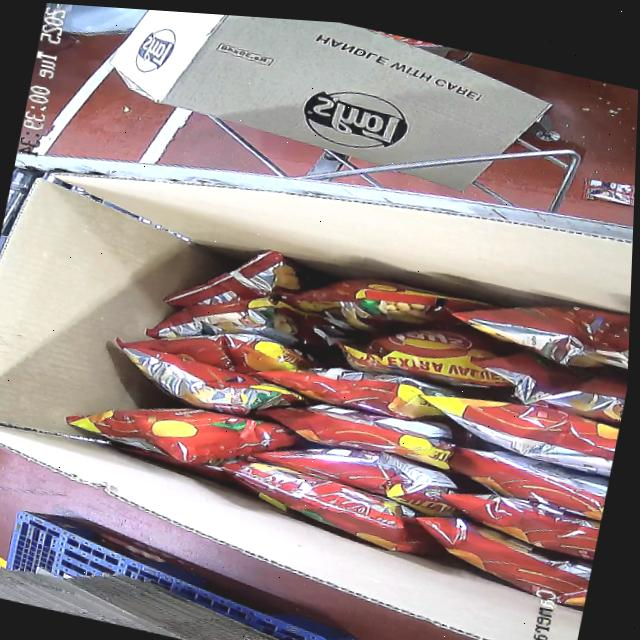MASALA: (48, 194, 633, 611)
